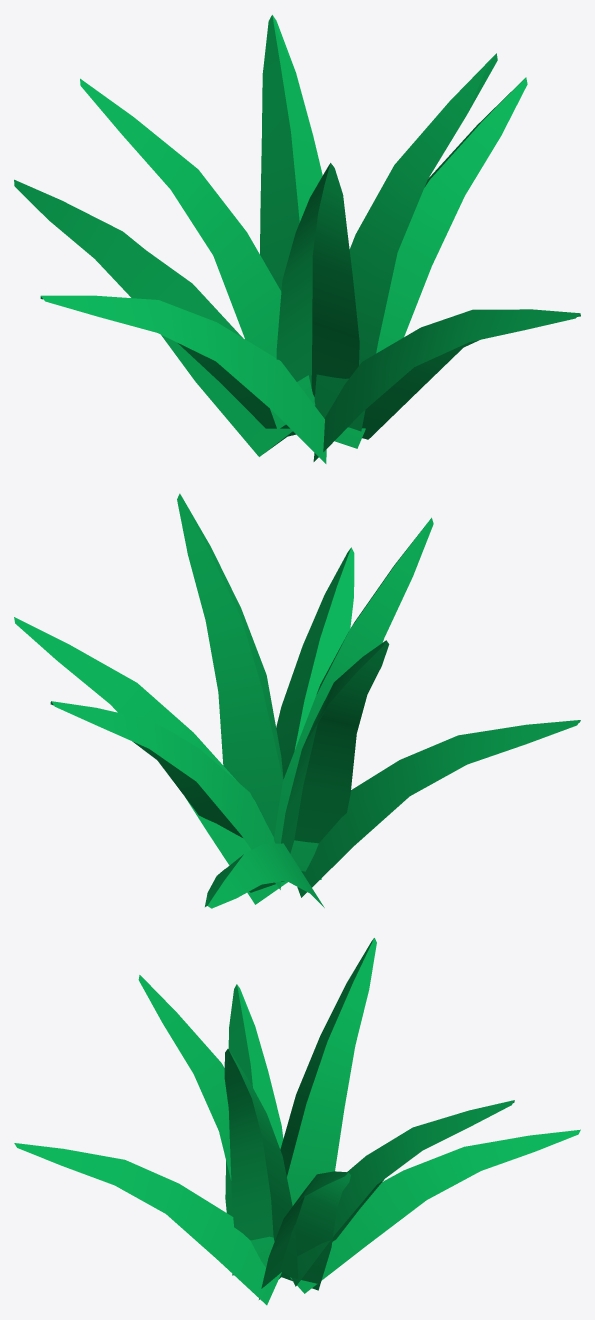
Rendered from GrassBiger.fbx.
3 views of the same model, one above another, from view 1: azimuth 30°, elevation 25°; view 2: azimuth 150°, elevation 25°; view 3: azimuth 270°, elevation 25° (orthographic). The views are drawn at different scales.
Visible parts, largest first — view 1: polySurface1; view 2: polySurface1; view 3: polySurface1.
Boxes of the visible parts, x1,y1,x2,y2 form: polySurface1: [14, 15, 580, 463]; polySurface1: [14, 493, 580, 908]; polySurface1: [14, 938, 580, 1305].
Bounding box in the file's own units: 11.26 × 7.41 × 12.72.
